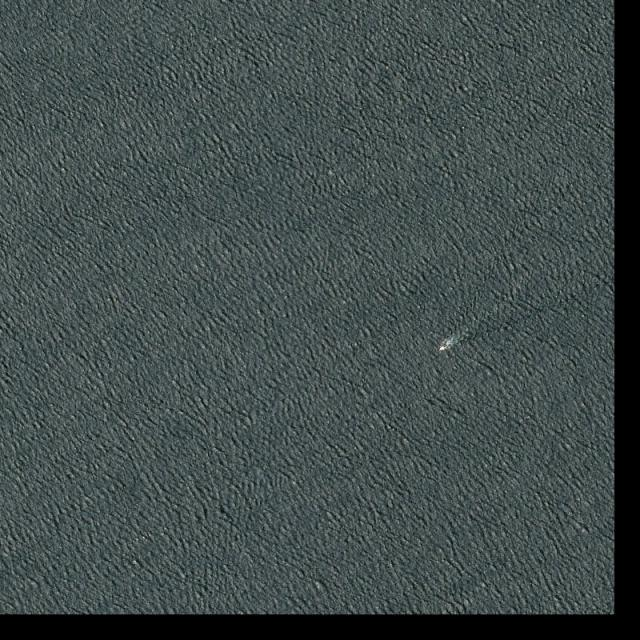ship: (438, 343, 449, 353)
